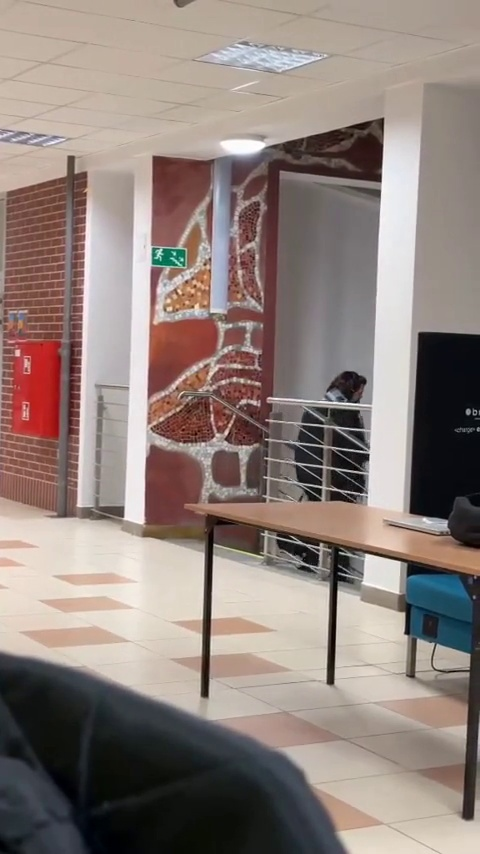no vest: (295, 370, 377, 491)
